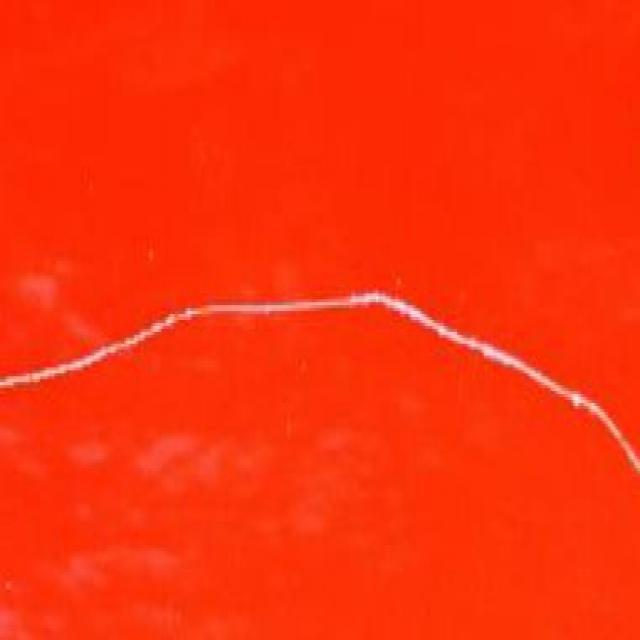scratch: (1, 274, 640, 496)
